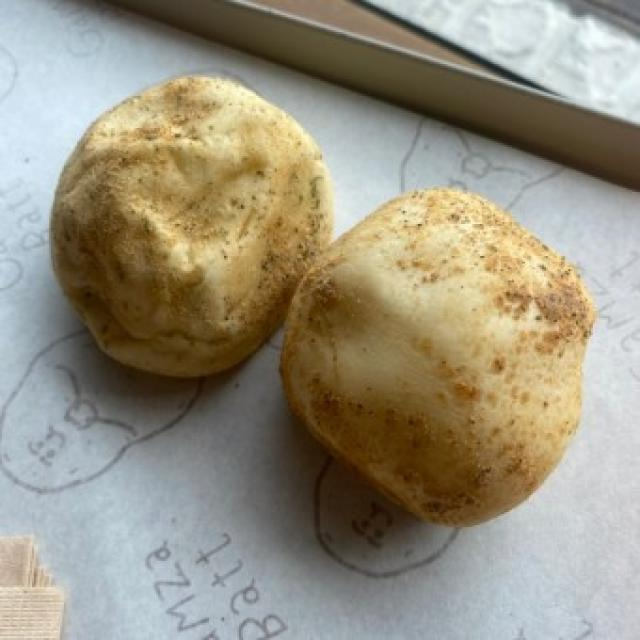potato: (281, 182, 596, 526), (50, 71, 336, 382)
